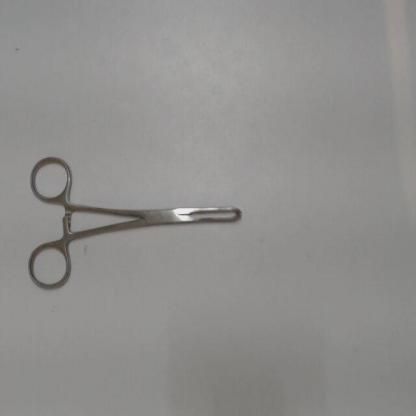Allis Tissue Forceps: (25, 145, 254, 300)
